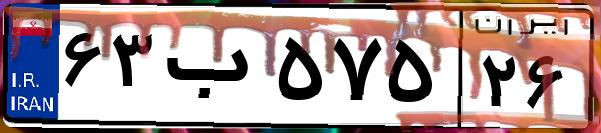2: (475, 38, 525, 113)
3: (110, 28, 158, 98)
5: (270, 28, 330, 110), (385, 28, 445, 110)
6: (57, 26, 110, 100), (525, 38, 570, 115)
7: (330, 28, 385, 110)
ب: (158, 20, 270, 120)
